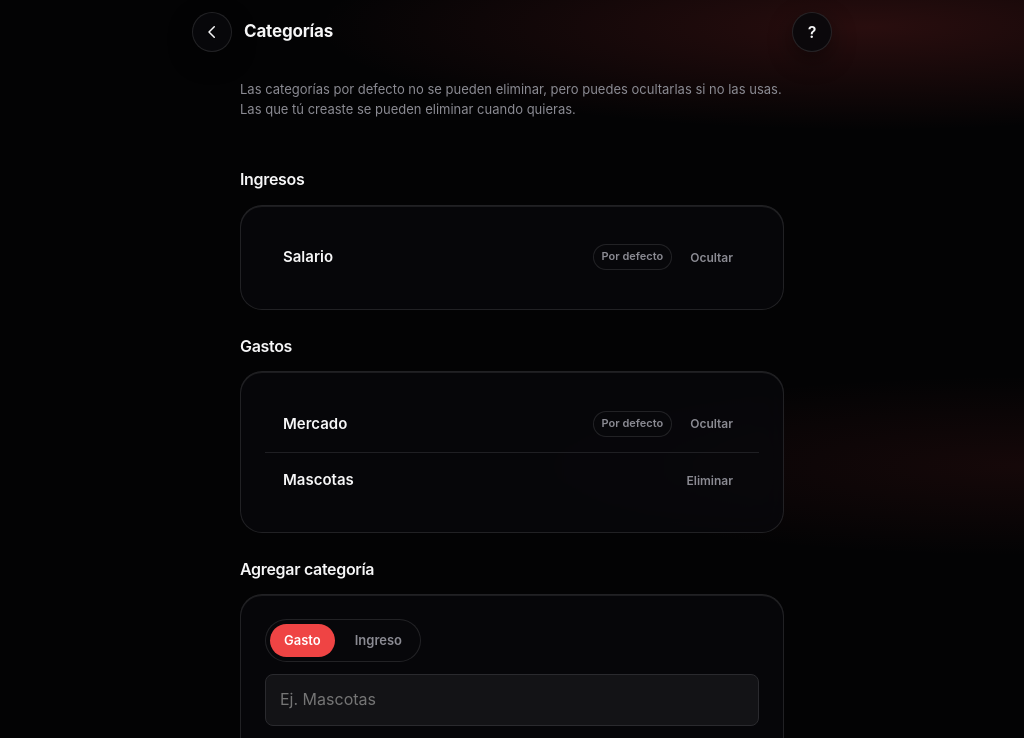
it: CategoriesMain › eliminar una categoria propia la saca de la lista
Step 1. Click the button with class "category-action" showing "Eliminar" → [710, 480], box top-left (678, 467), bottom-right (741, 494)
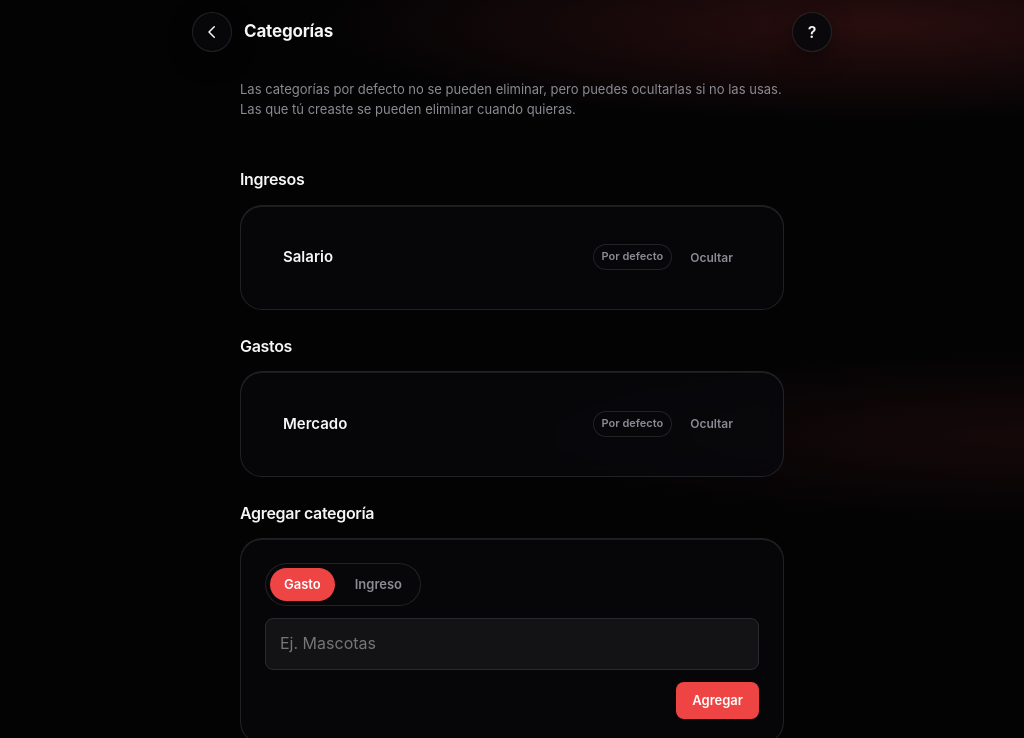
Check: the text "Mascotas" is gone
